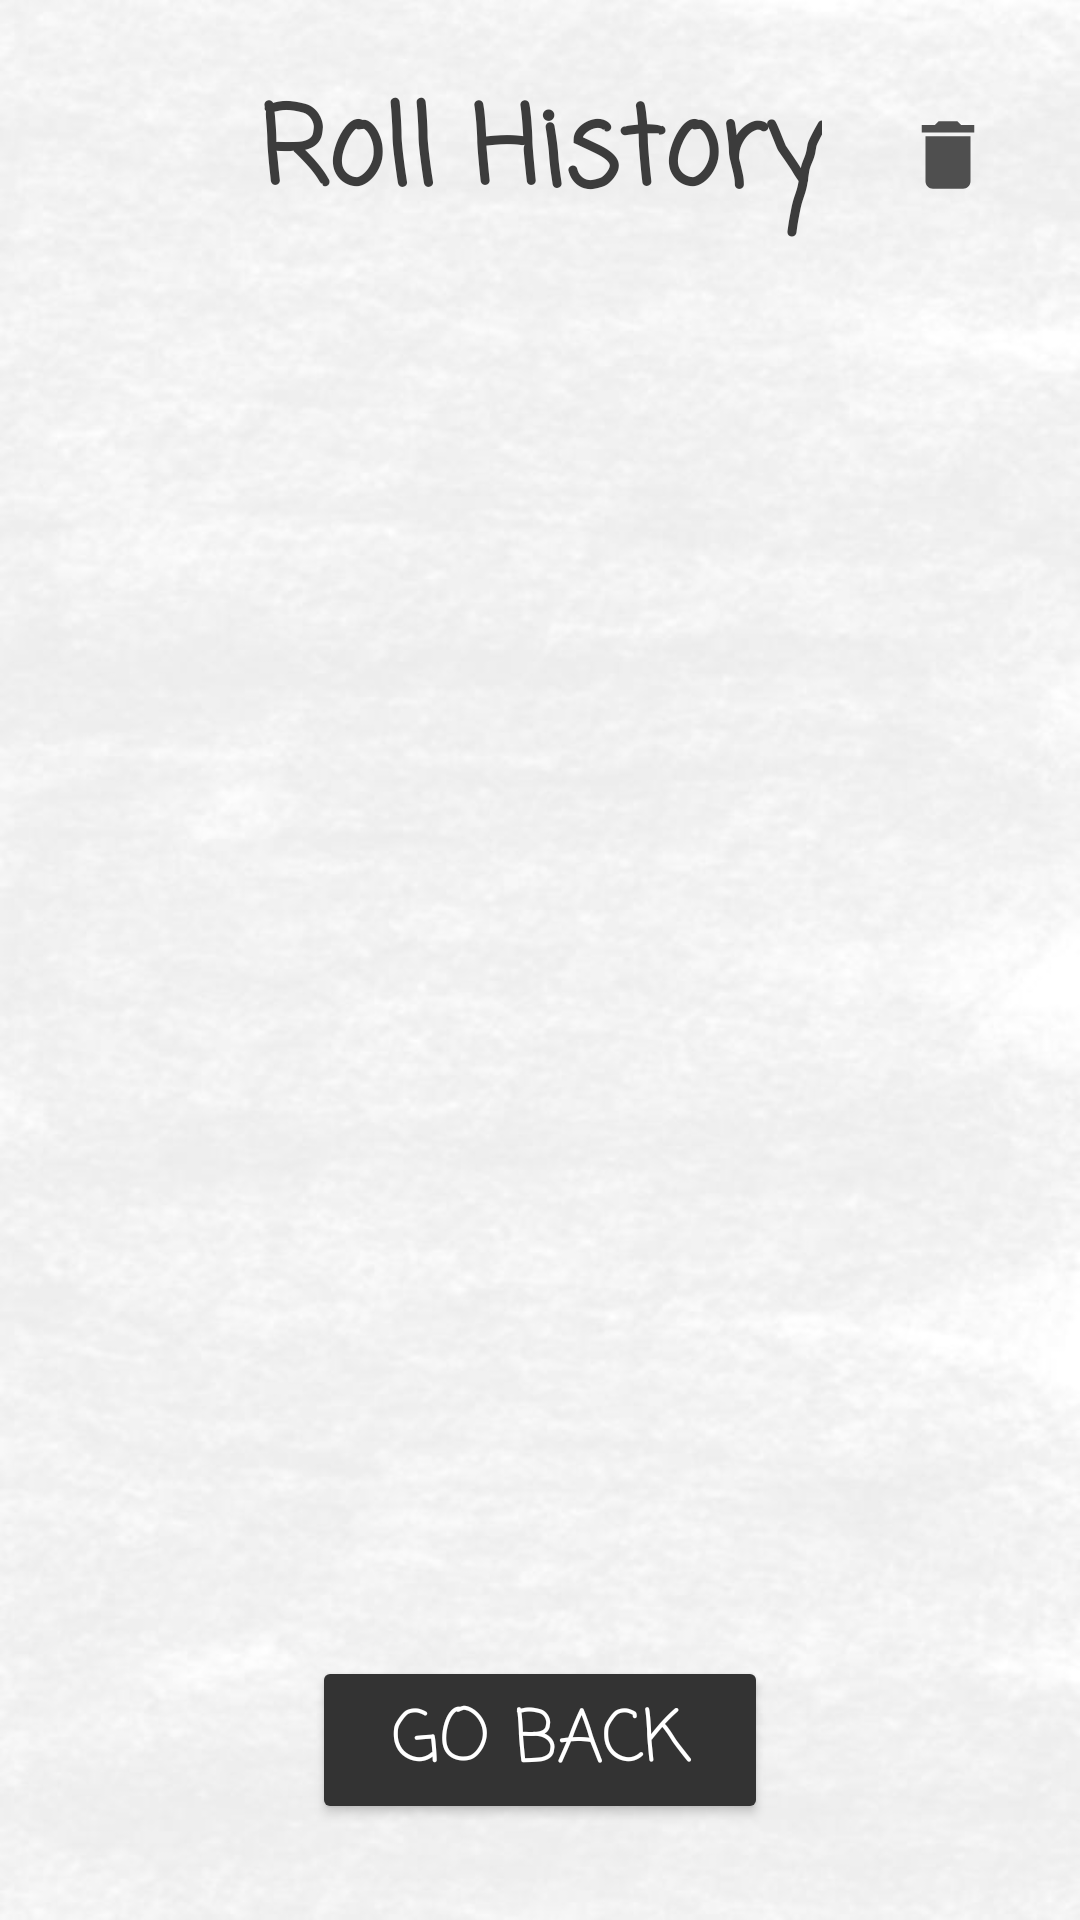

Locate icon controls on the screen. Image size 1080 × 1920, boxes as (x1, y1, x2, y2).
trash: (921, 121, 975, 189)
